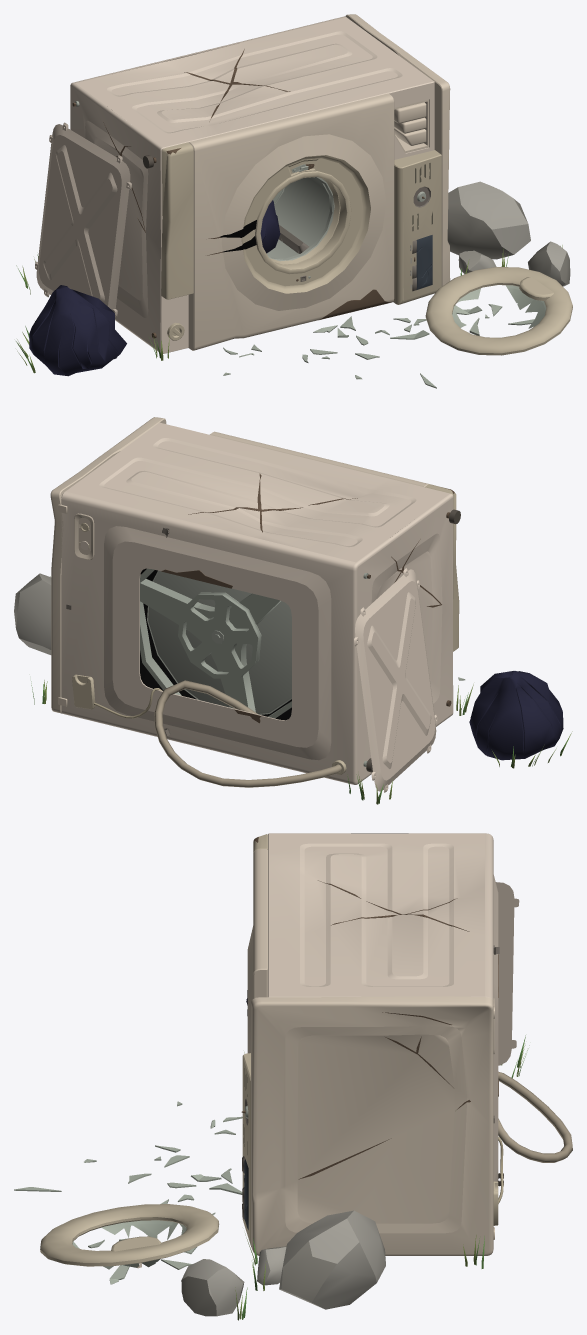
Rendered from Maquina Quebrada.fbx.
3 views of the same model, one above another, from view 1: azimuth 30°, elevation 25°; view 2: azimuth 150°, elevation 25°; view 3: azimuth 270°, elevation 25° (orthographic). The views are drawn at different scales.
Visible parts, largest first — view 1: 03_Washing-Machine, 03_Backdoor, 03_Door, 03_Rocks, 03_Trash, 03_Drum, 03_Rust, 03_Glass, 03_Grass; view 2: 03_Washing-Machine, 03_Drum, 03_Backdoor, 03_Trash, 03_Hoses, 03_Rocks, 03_Rust, 03_Blackbox, 03_Grass; view 3: 03_Washing-Machine, 03_Rocks, 03_Door, 03_Backdoor, 03_Hoses, 03_Glass, 03_Rust, 03_Grass.
Part boxes in pixels (bbox=[...]): 03_Washing-Machine: bbox=[70, 14, 450, 353]; 03_Backdoor: bbox=[35, 122, 131, 317]; 03_Door: bbox=[425, 267, 572, 355]; 03_Rocks: bbox=[447, 181, 570, 286]; 03_Trash: bbox=[29, 200, 280, 376]; 03_Drum: bbox=[267, 177, 334, 261]; 03_Rust: bbox=[103, 49, 391, 319]; 03_Glass: bbox=[223, 304, 534, 388]; 03_Grass: bbox=[16, 245, 562, 373]; 03_Washing-Machine: bbox=[50, 417, 460, 784]; 03_Drum: bbox=[140, 568, 291, 718]; 03_Backdoor: bbox=[354, 568, 437, 792]; 03_Trash: bbox=[469, 671, 563, 760]; 03_Hoses: bbox=[94, 680, 341, 787]; 03_Rocks: bbox=[14, 573, 51, 654]; 03_Rust: bbox=[161, 473, 454, 723]; 03_Blackbox: bbox=[140, 568, 291, 720]; 03_Grass: bbox=[31, 576, 572, 804]; 03_Washing-Machine: bbox=[241, 833, 503, 1255]; 03_Rocks: bbox=[181, 1210, 385, 1316]; 03_Door: bbox=[40, 1204, 219, 1269]; 03_Backdoor: bbox=[495, 882, 519, 1065]; 03_Hoses: bbox=[498, 1071, 572, 1203]; 03_Glass: bbox=[14, 1101, 242, 1284]; 03_Rust: bbox=[247, 837, 498, 1179]; 03_Grass: bbox=[235, 1035, 529, 1320].
Bounding box in the file's own units: 153 × 59.77 × 118.
